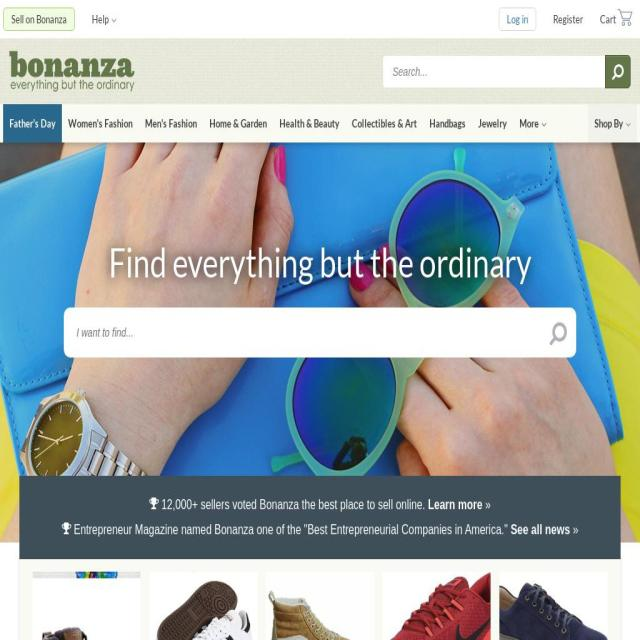button: (148, 571, 258, 640), (382, 571, 492, 640), (32, 571, 141, 640), (499, 571, 608, 640), (266, 571, 374, 640), (10, 51, 134, 92), (62, 105, 139, 144), (346, 105, 423, 144), (273, 105, 346, 144), (203, 105, 273, 144), (139, 105, 203, 144), (3, 105, 62, 144), (423, 105, 472, 144), (588, 105, 637, 144), (3, 7, 75, 31), (546, 0, 590, 39), (472, 105, 513, 144), (84, 0, 124, 39), (513, 105, 553, 144), (592, 0, 616, 39), (499, 8, 536, 32)
field: (63, 309, 540, 357), (382, 54, 608, 88)
heading: (0, 242, 640, 284), (74, 522, 511, 538), (161, 498, 429, 512), (510, 522, 570, 538), (428, 498, 482, 512), (570, 522, 579, 538), (482, 498, 491, 512)
image: (148, 571, 258, 640), (382, 571, 492, 640), (32, 571, 141, 640), (499, 571, 608, 640), (266, 571, 374, 640), (10, 51, 134, 92), (611, 54, 623, 87)
text: (594, 117, 624, 131), (519, 117, 539, 131), (92, 12, 109, 26)
